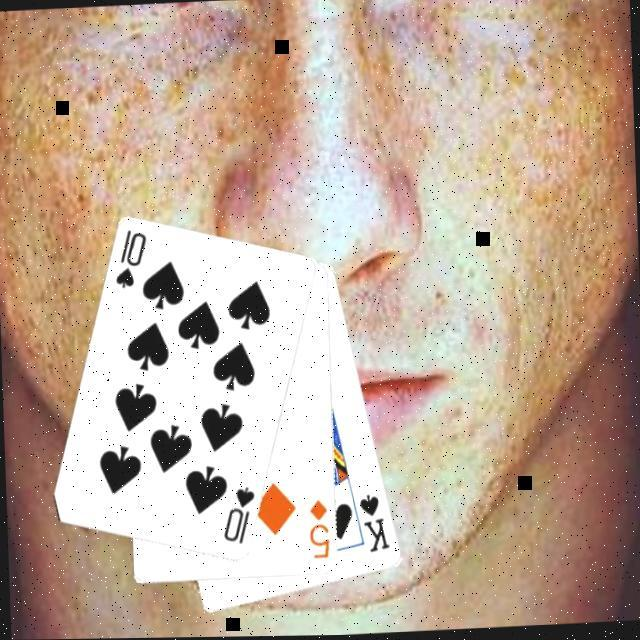10S: (217, 483, 259, 547), (110, 226, 150, 291)
5D: (304, 496, 332, 562)
KS: (356, 490, 392, 556)
